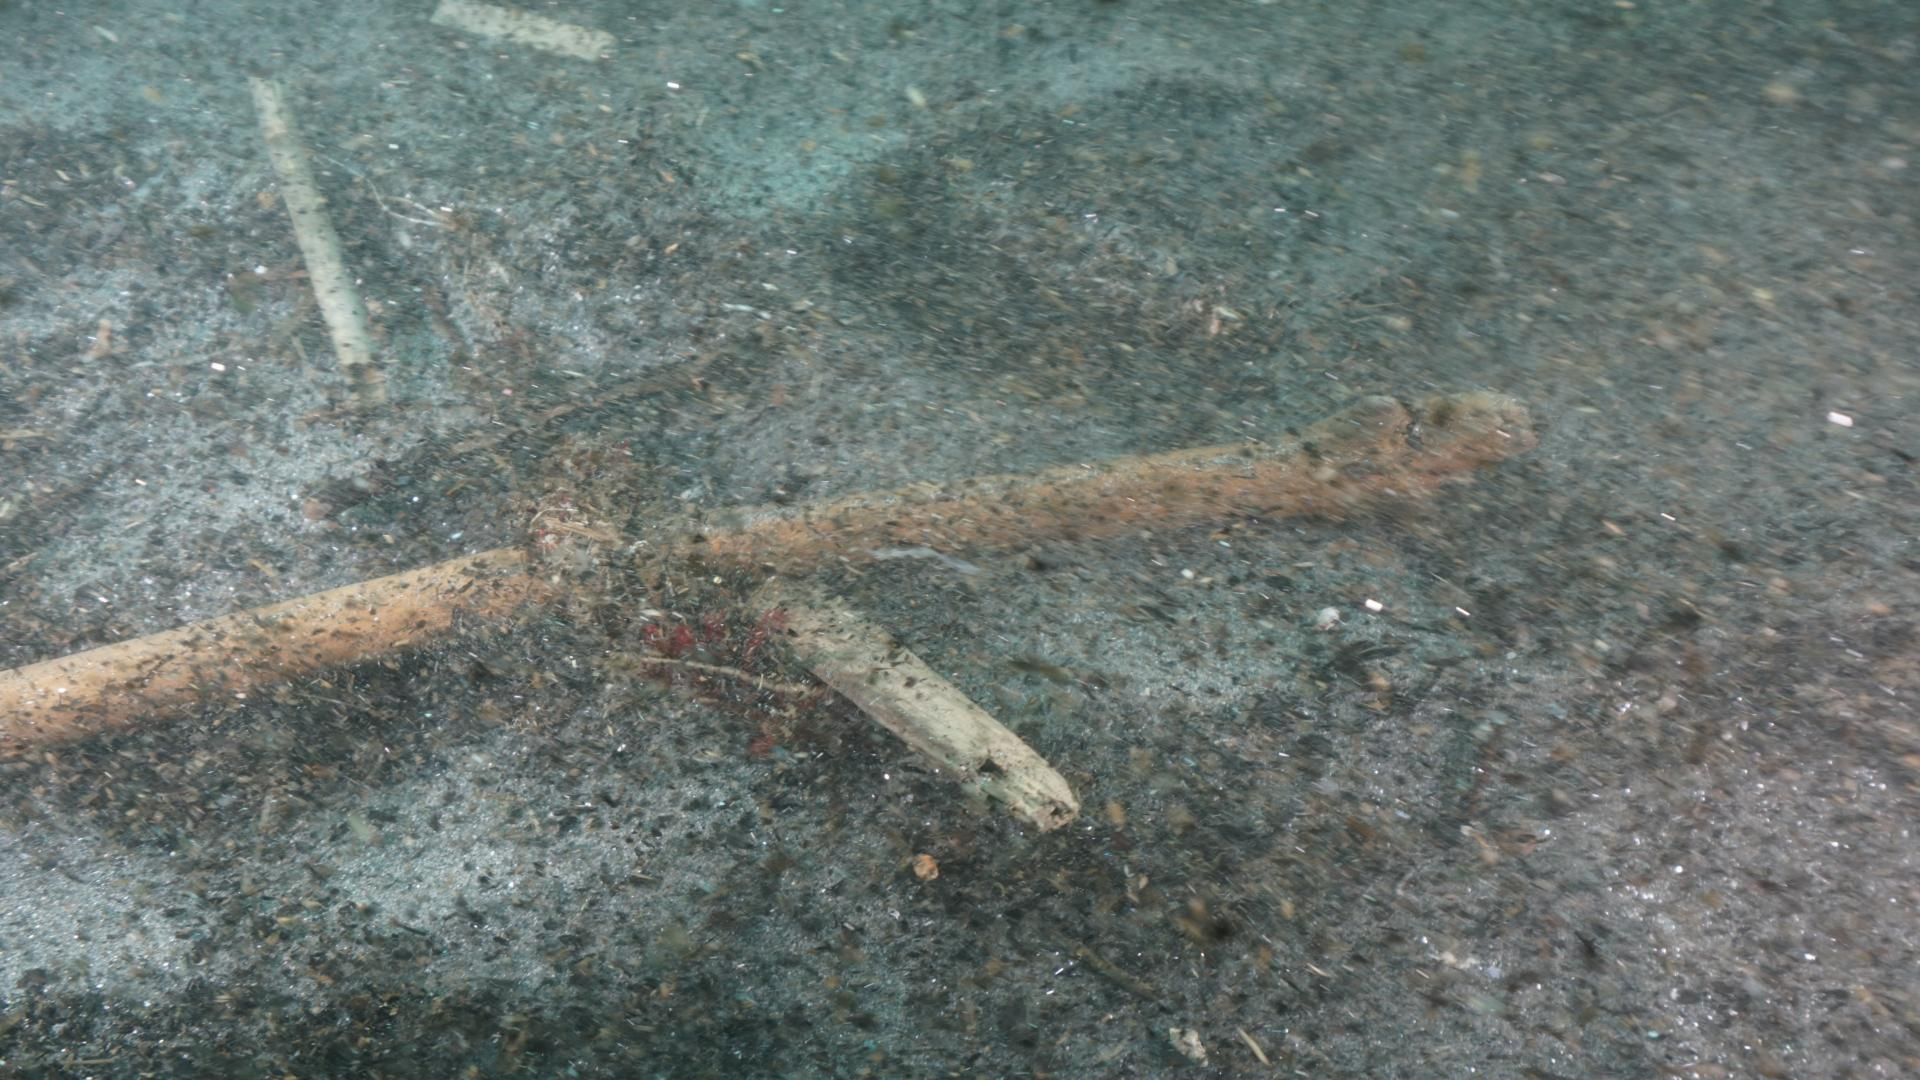wood: (0, 388, 1534, 837)
